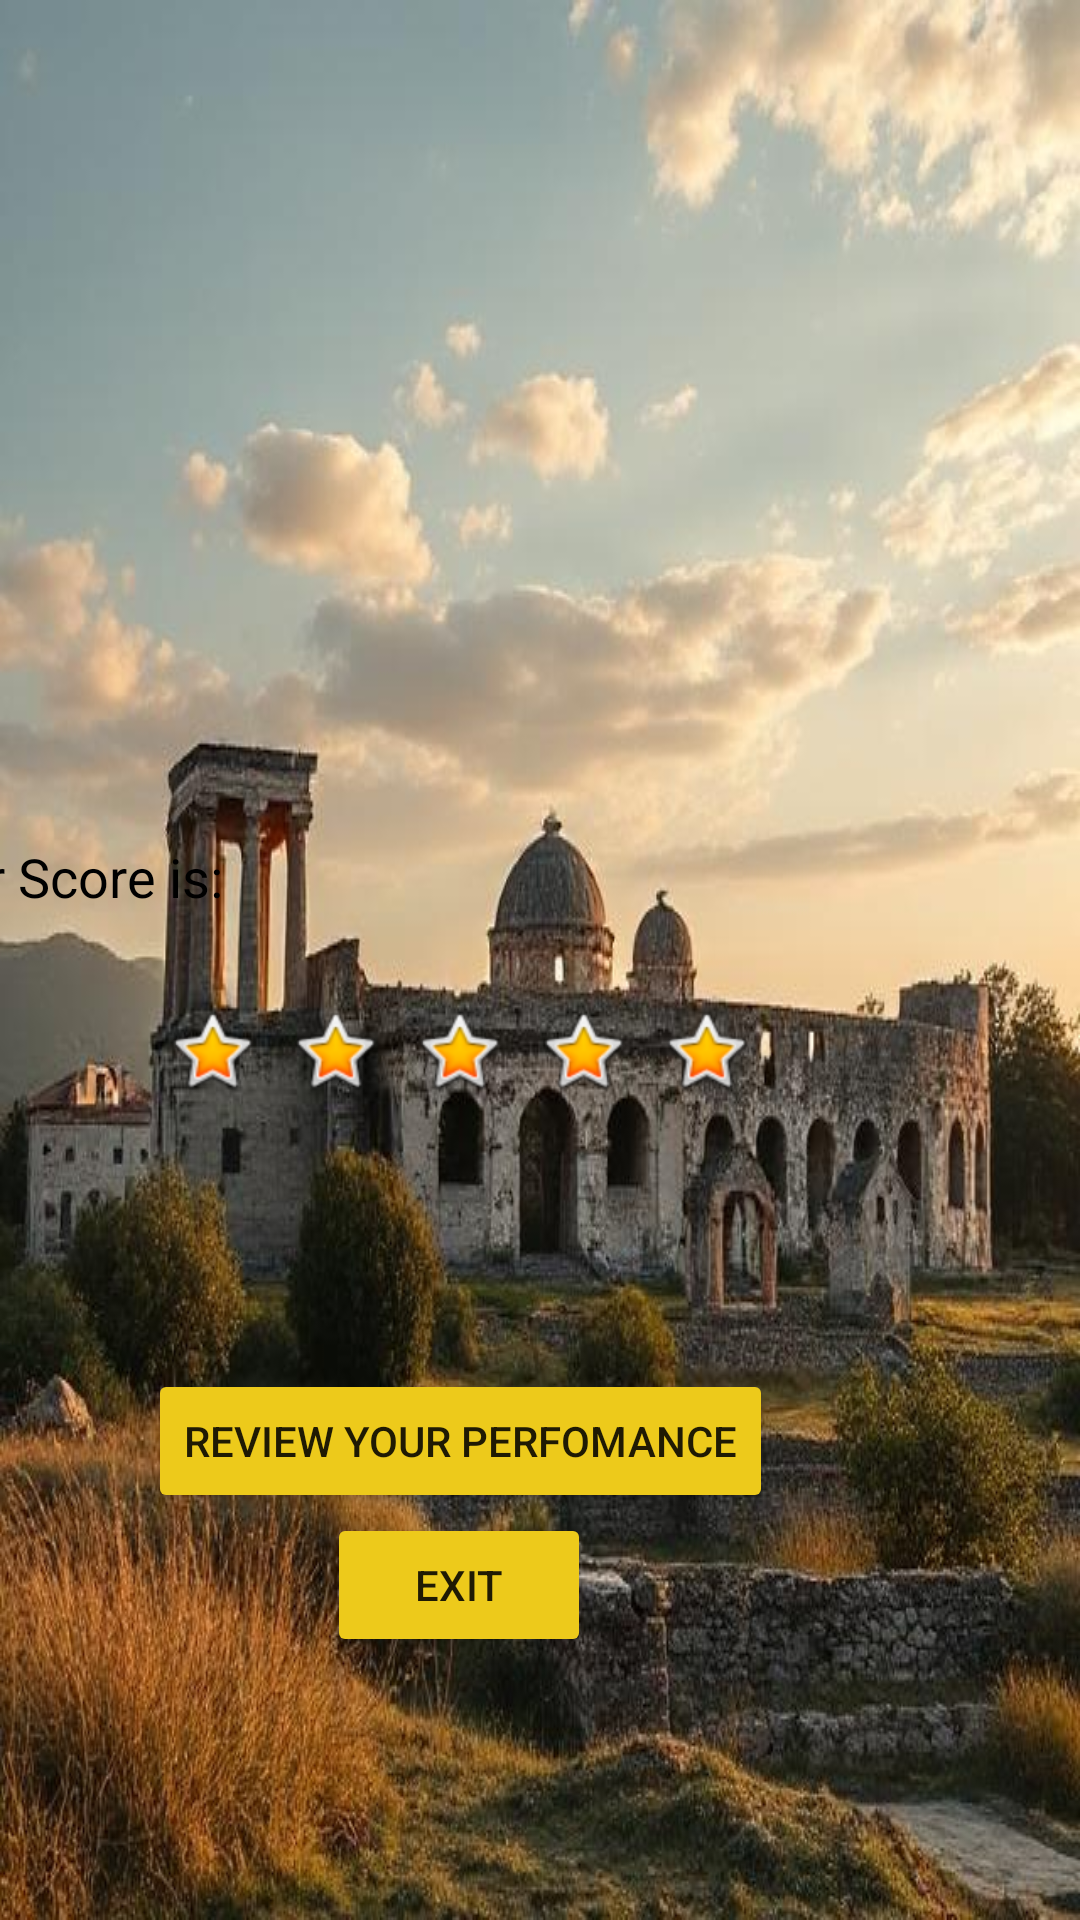

Point at icon controls on the screen. Image size 1080 x 1920, points as (x,y).
star on: (212,1051), (335,1051), (459,1051), (583,1051), (706,1051)
